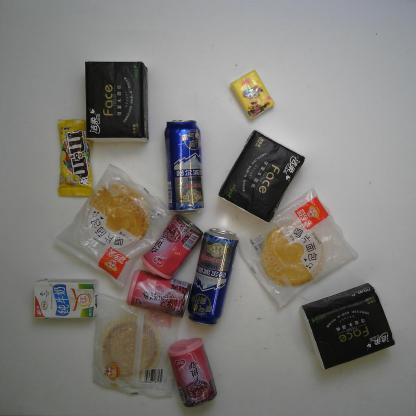Alcohol: (186, 227, 240, 327), (163, 119, 207, 214)
Canned Food: (140, 213, 204, 280), (166, 336, 218, 408), (125, 268, 192, 320)
Chocolate: (55, 117, 96, 199)
Dessert: (50, 163, 174, 290), (238, 187, 360, 309), (91, 293, 181, 398)
Milk: (32, 277, 99, 319)
Tissue: (298, 282, 396, 370), (218, 129, 306, 224), (84, 60, 152, 145), (228, 69, 275, 121)
